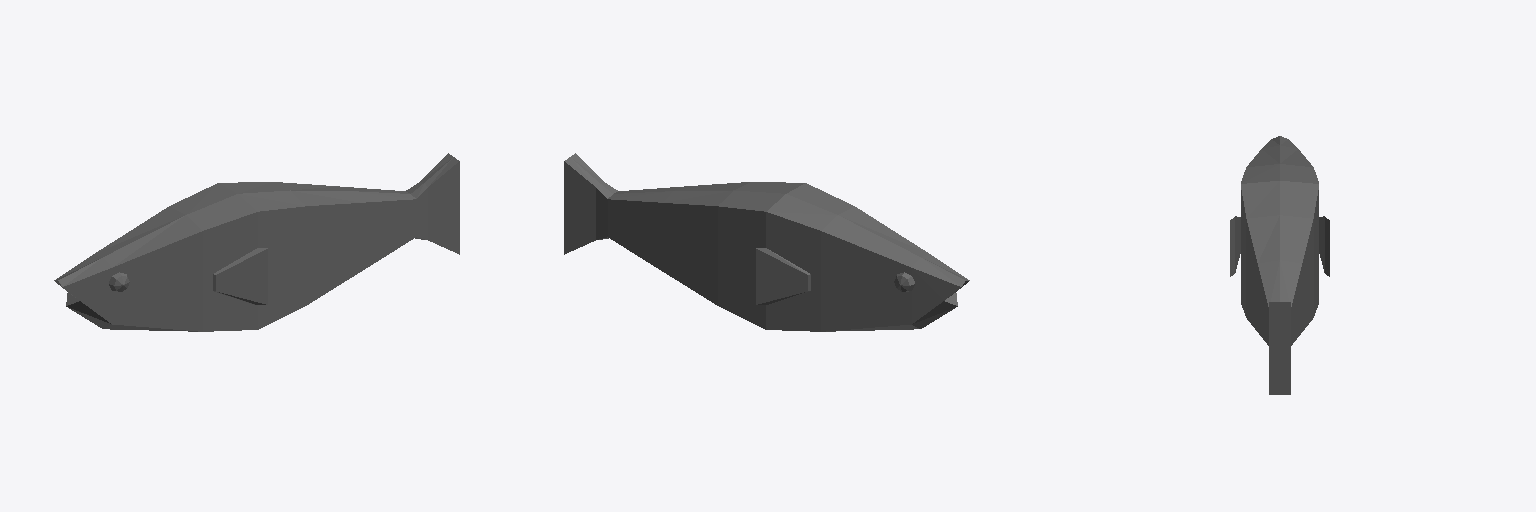
File: Fish.obj
3 renders of one model, left to right at view 1: azimuth 30°, elevation 25°; view 2: azimuth 150°, elevation 25°; view 3: azimuth 270°, elevation 25°, orthographic.
Visible parts, largest first — view 1: Fish; view 2: Fish; view 3: Fish.
Boxes of the visible parts, box(x1,y1,x2,y2) form: Fish: box(54, 153, 459, 331); Fish: box(564, 153, 969, 331); Fish: box(1230, 136, 1329, 394).
Size of the model in its own units: 29.97 by 9.64 by 6.58.